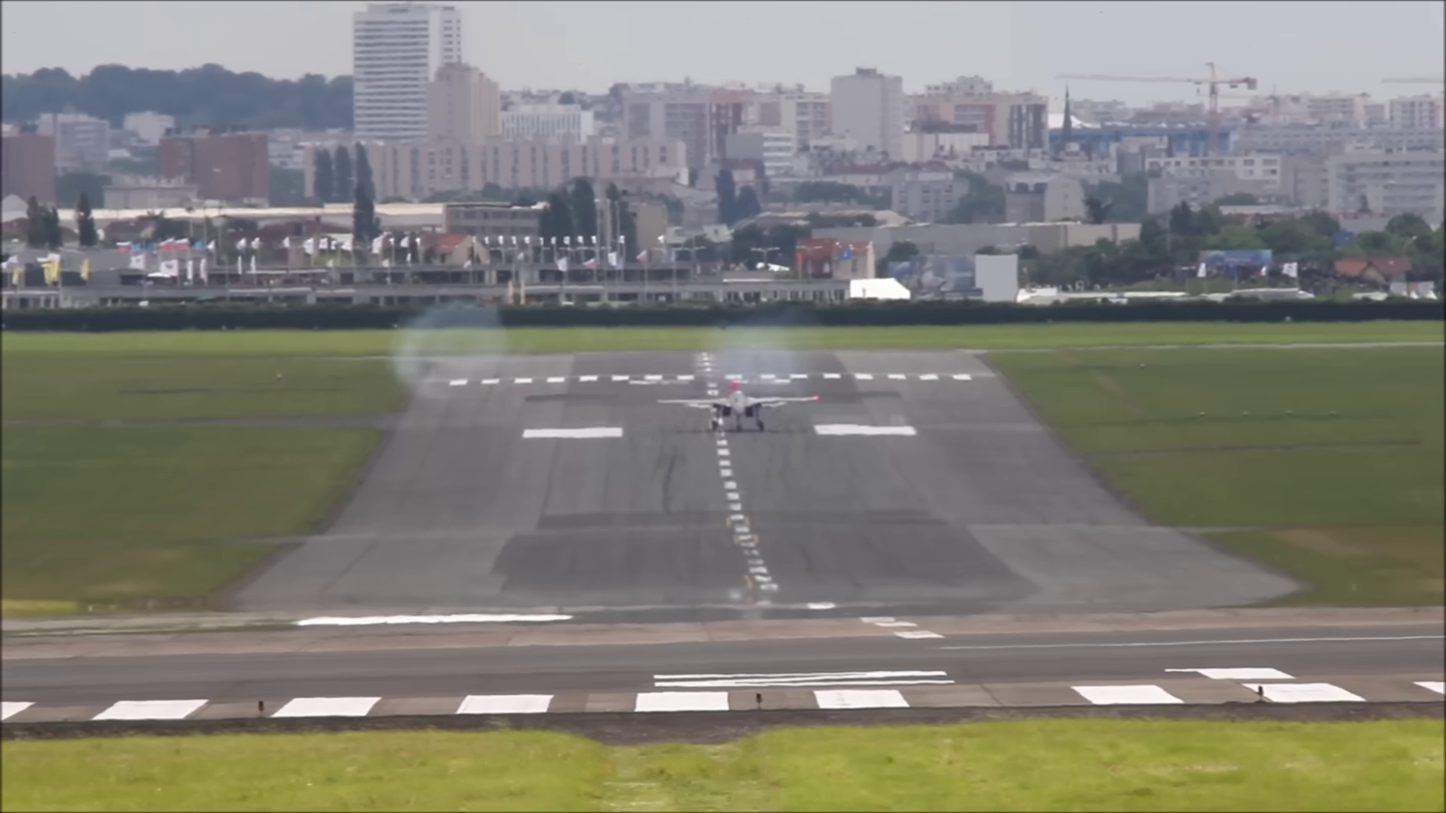Su35: (648, 376, 831, 446)
